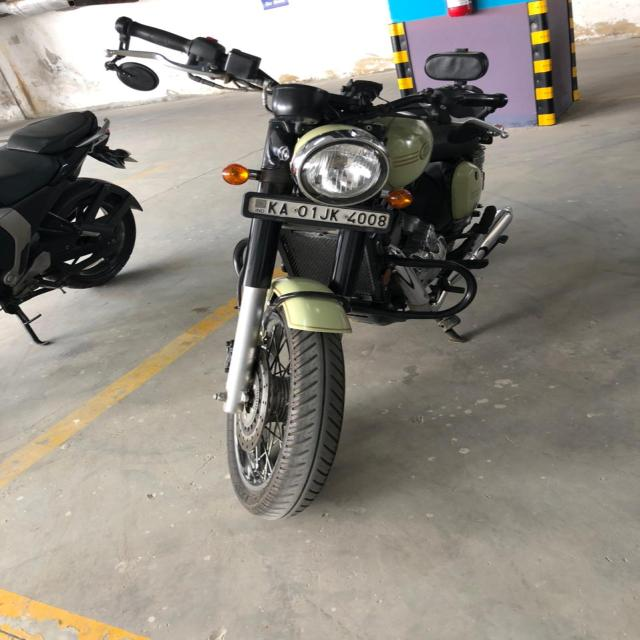license_plate: (241, 191, 392, 233)
